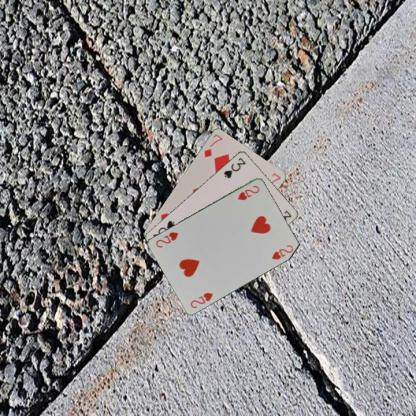2h: (188, 290, 214, 309), (235, 183, 261, 201)
3s: (221, 155, 247, 180)
7d: (201, 131, 224, 158)
